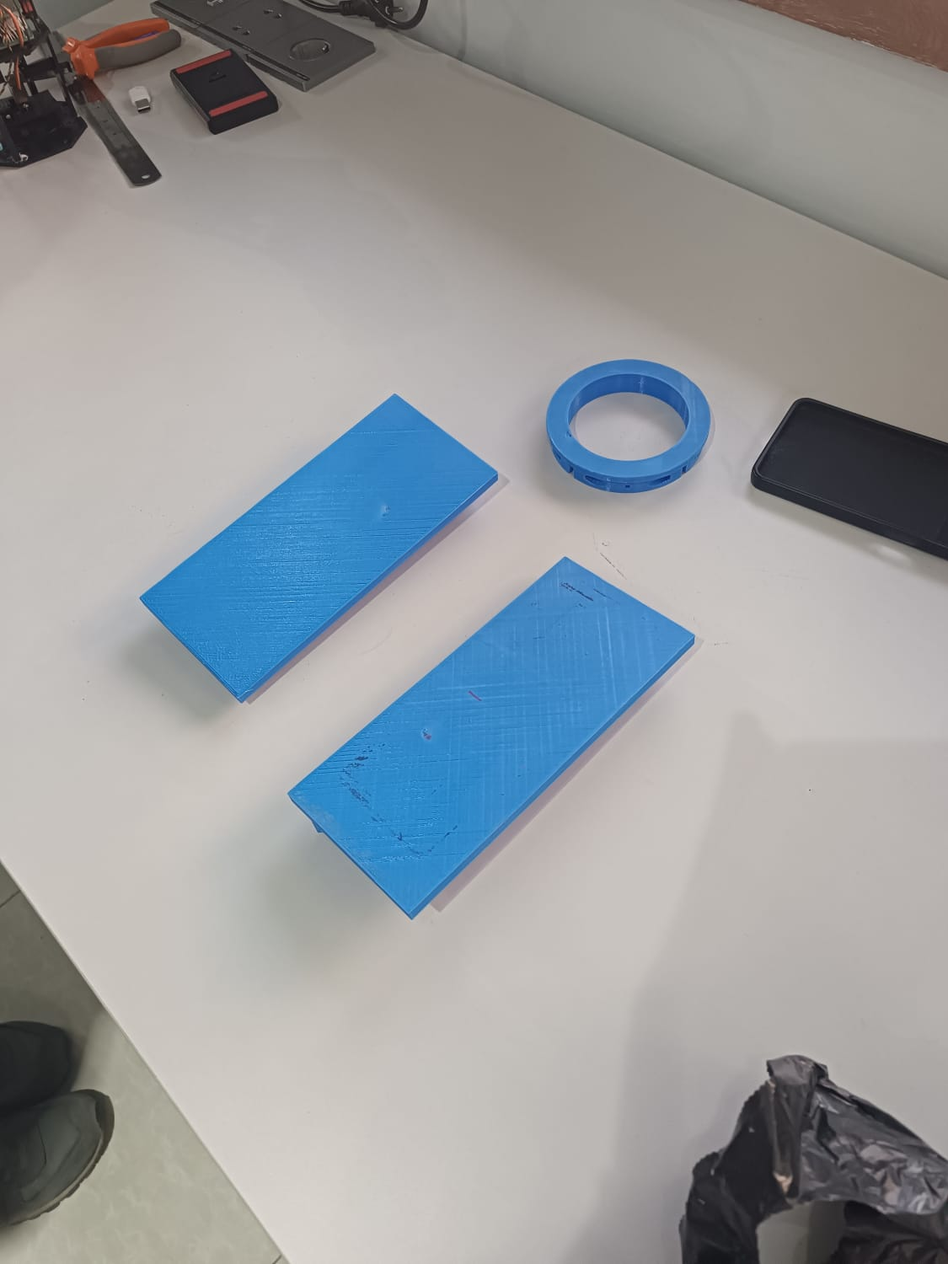Circle: (532, 340, 720, 512)
Rectangular: (280, 549, 704, 926), (130, 398, 507, 708)
